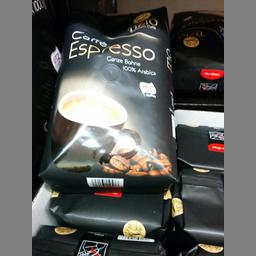coffee: (41, 4, 178, 194)
